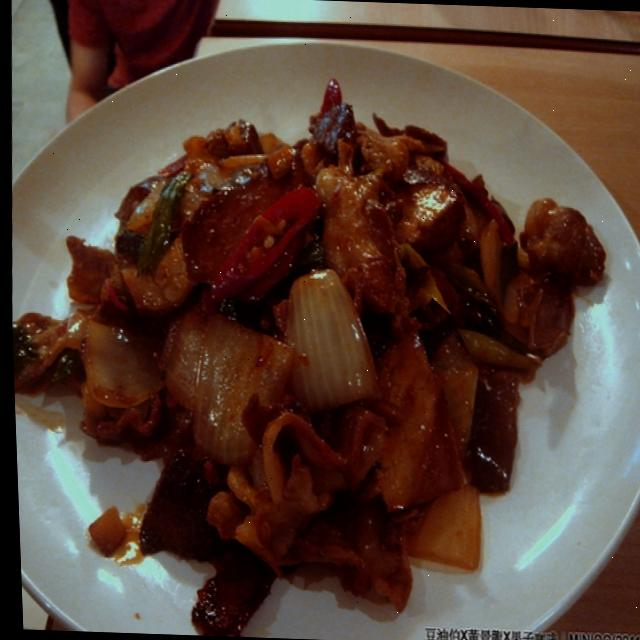猪肉菜式: (1, 41, 640, 637)
